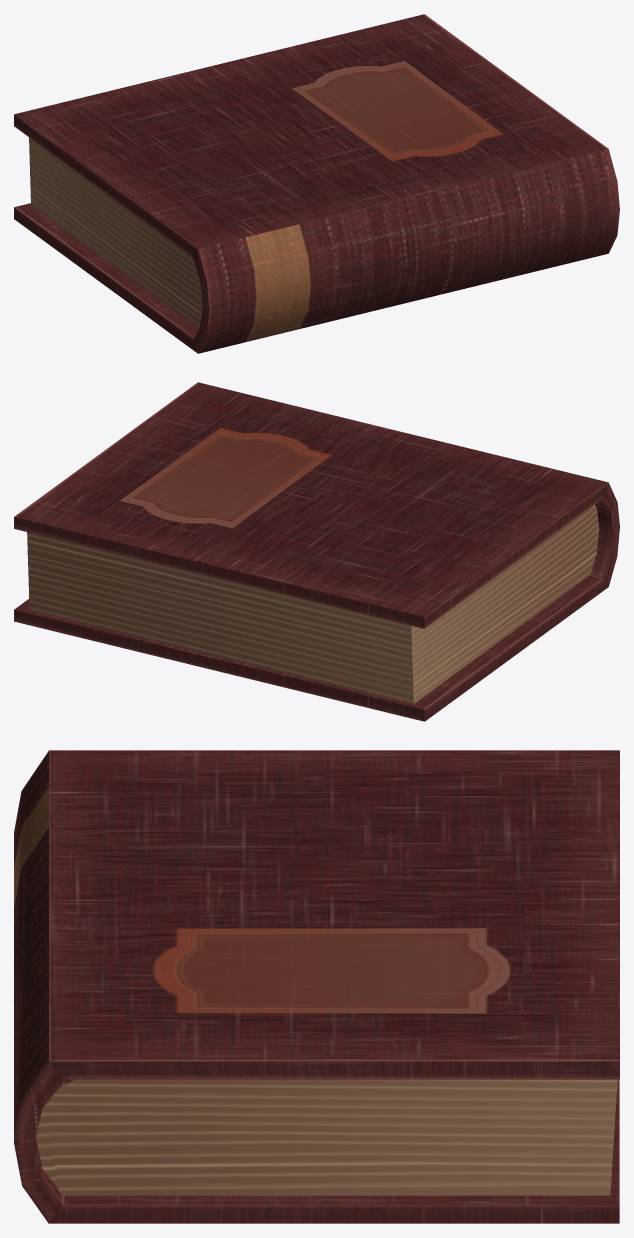
The model's file is Book-closed 1.fbx.
The picture shows the model from 3 angles, top to bottom: view 1: azimuth 30°, elevation 25°; view 2: azimuth 150°, elevation 25°; view 3: azimuth 270°, elevation 25°; orthographic projection. The views are drawn at different scales.
Visible parts, largest first — view 1: SM_Book_closed.001; view 2: SM_Book_closed.001; view 3: SM_Book_closed.001.
Part boxes in pixels (box(x1,y1,x2,y2)): SM_Book_closed.001: box(14, 14, 619, 353); SM_Book_closed.001: box(14, 382, 619, 721); SM_Book_closed.001: box(14, 750, 619, 1223).
Size of the model in its own units: 66.31 by 16.16 by 54.64.
